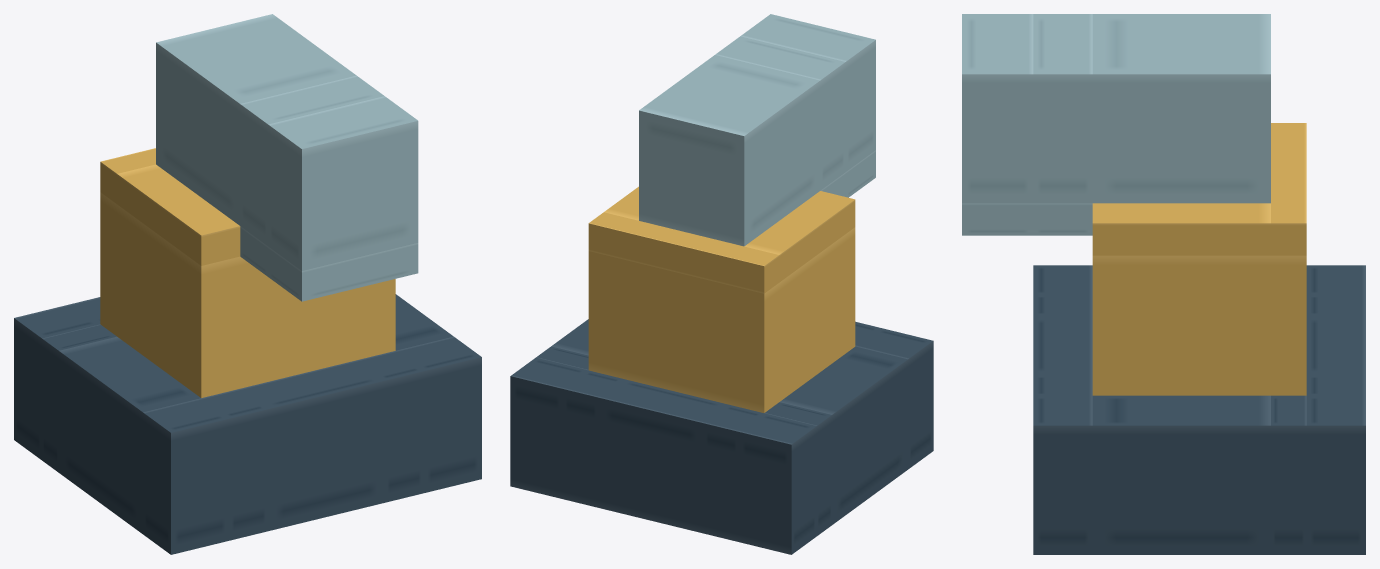
Rendered from sc_pickup_mechanical_arm.obj.
3 renders of one model, left to right at view 1: azimuth 30°, elevation 25°; view 2: azimuth 150°, elevation 25°; view 3: azimuth 270°, elevation 25°, orthographic. The views are drawn at different scales.
Size of the model in its own units: 4.8 by 6 by 5.1.
1 material, 1 textured.
